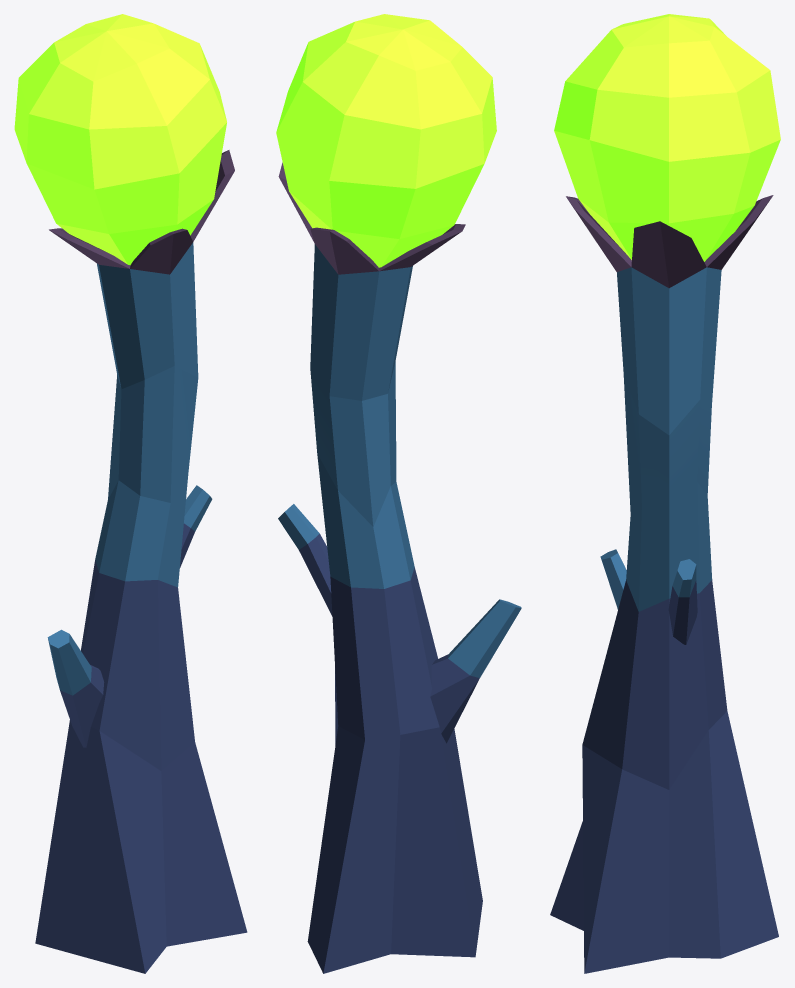
The model's file is scifi_scifi-tree-orb-medium.fbx.
3 views of the same model, side by side, from view 1: azimuth 30°, elevation 25°; view 2: azimuth 150°, elevation 25°; view 3: azimuth 270°, elevation 25° (orthographic).
Visible parts, largest first — view 1: scifi_scifi_tree_orb_medium; view 2: scifi_scifi_tree_orb_medium; view 3: scifi_scifi_tree_orb_medium.
Boxes of the visible parts, x1,y1,x2,y2 form: scifi_scifi_tree_orb_medium: (14,14,247,973); scifi_scifi_tree_orb_medium: (276,14,521,973); scifi_scifi_tree_orb_medium: (550,14,780,973).
Size of the model in its own units: 47.88 by 200 by 46.06.
